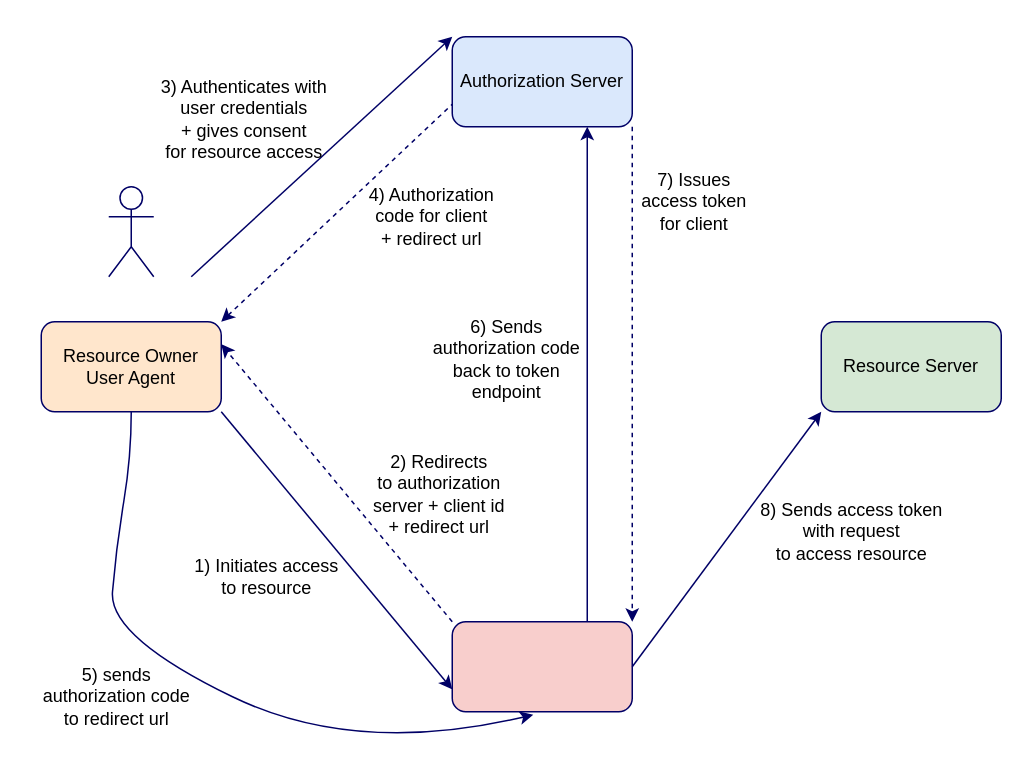
The diagram is 1028 pixels wide and 768 high, and some of its shapes have lost their labels. Here are the shapes that lost their labels. From the top down, the centre of each, then its label:
At [130,231]: "Resource Owner".
At [541,666]: "Client Application".
